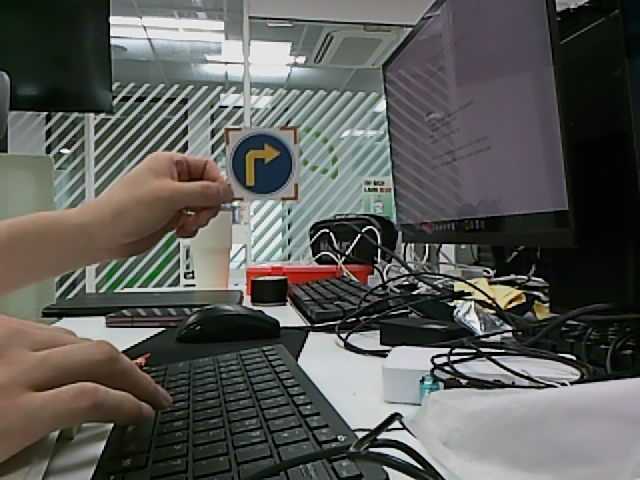right: (231, 133, 293, 195)
